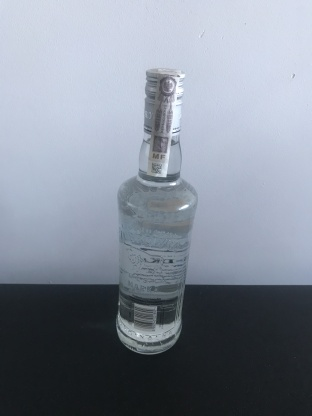nakretka: (141, 63, 187, 139)
